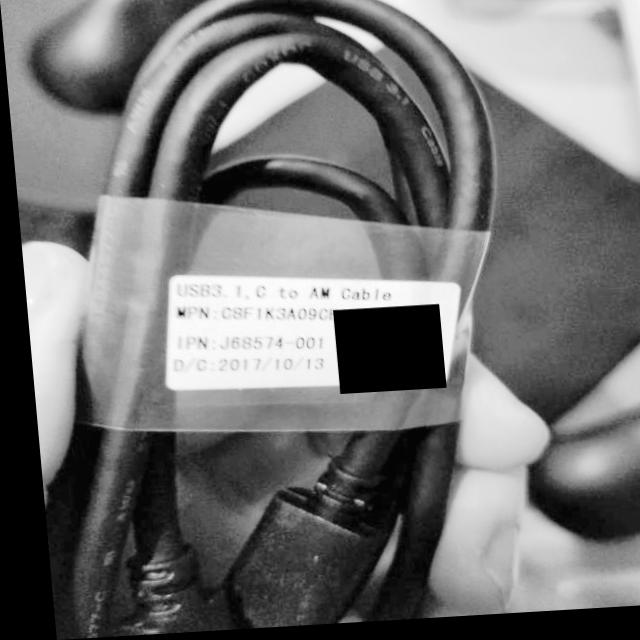qr_code: (327, 309, 439, 398)
